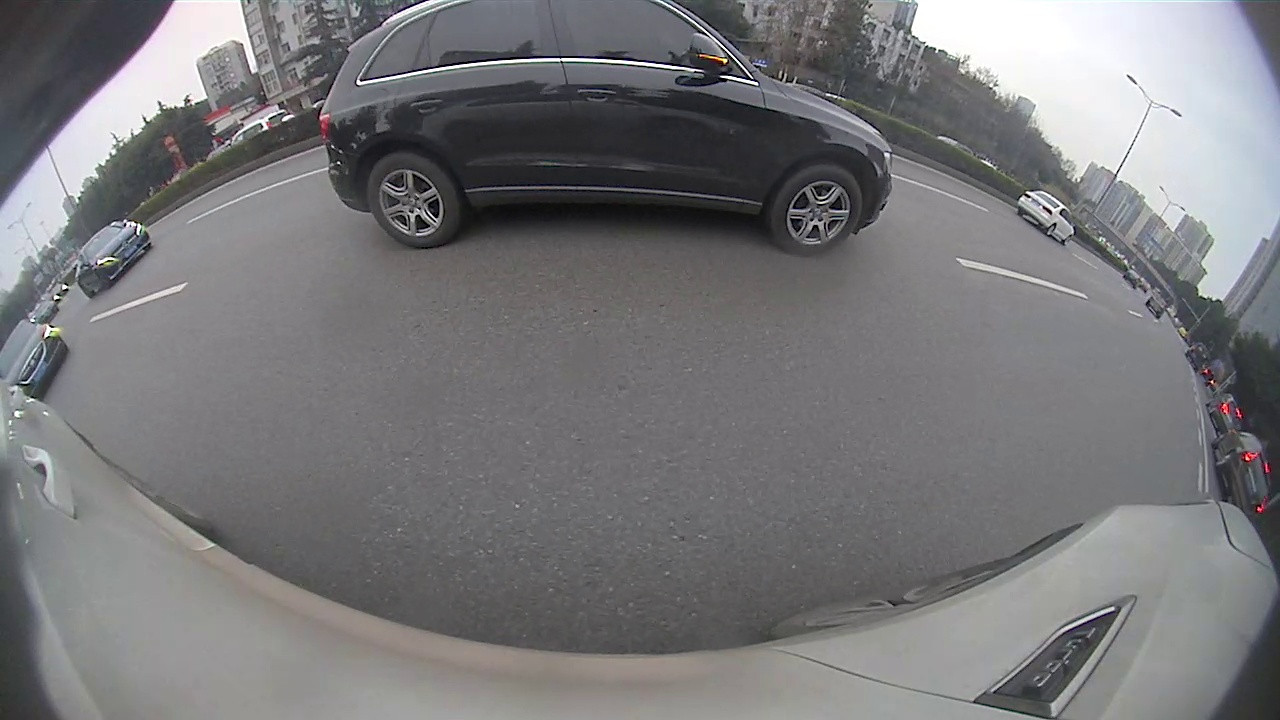car: (319, 1, 890, 258), (0, 317, 69, 398), (75, 223, 150, 296), (1212, 431, 1272, 521), (1019, 190, 1077, 244), (1205, 393, 1242, 438)
front: (761, 159, 867, 260), (1061, 233, 1074, 247)
rear: (364, 149, 465, 248), (1046, 223, 1057, 238)
